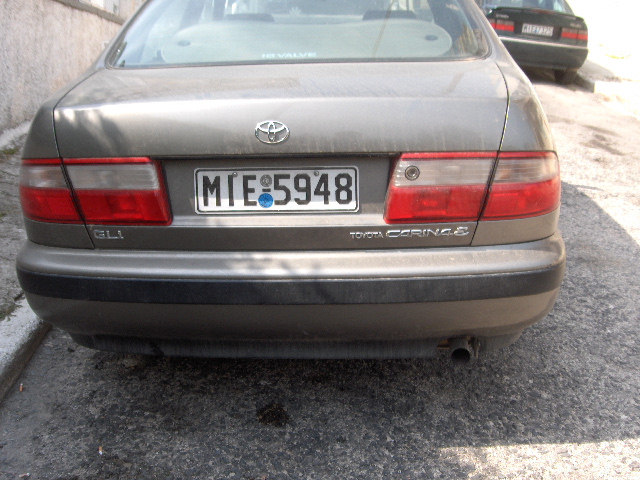licenseplate: (193, 168, 360, 212)
